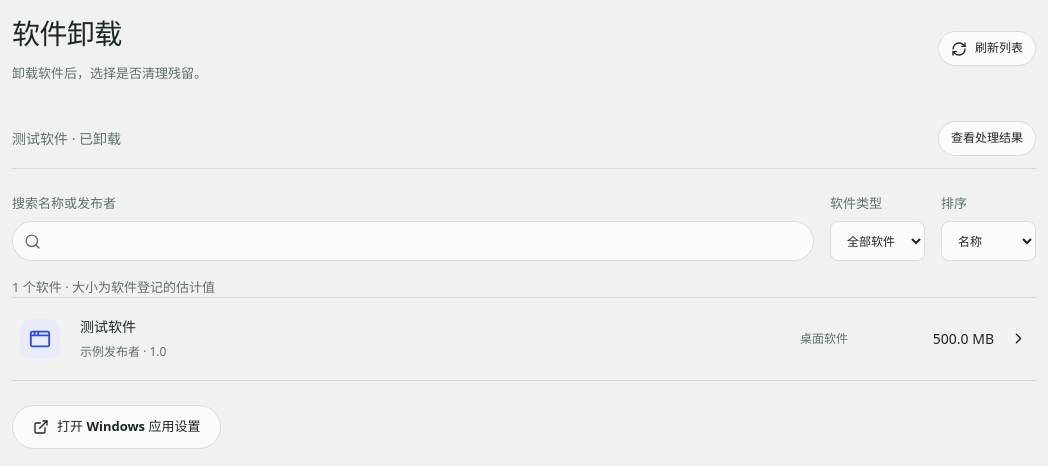
Scenario: software removal › does not offer or auto-start a residual scan after recovered authority is lost
Click the button "查看处理结果": [987, 139] box top-left (938, 121), bottom-right (1036, 156)
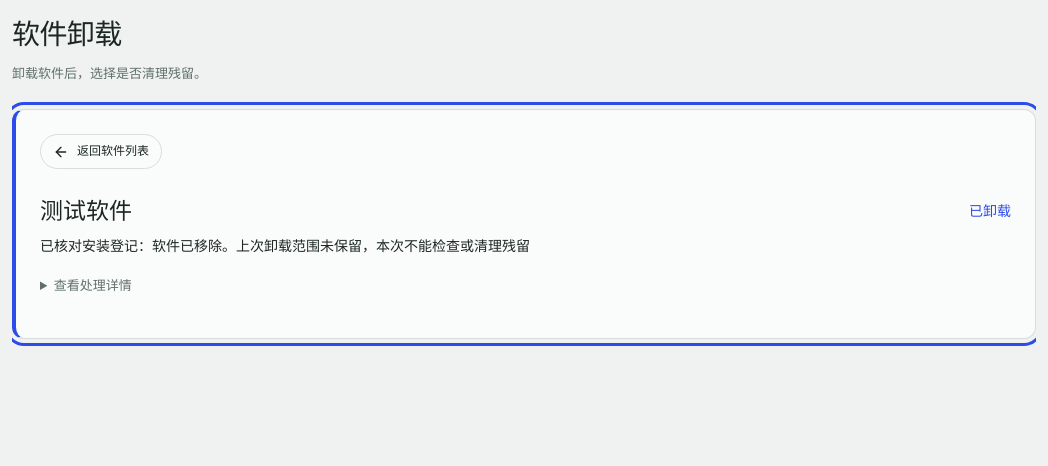
Expected: the text "已核对安装登记：软件已移除。上次卸载范围未保留，本次不能检查或清理残留" is shown, top-left (40, 236), bottom-right (530, 255)
